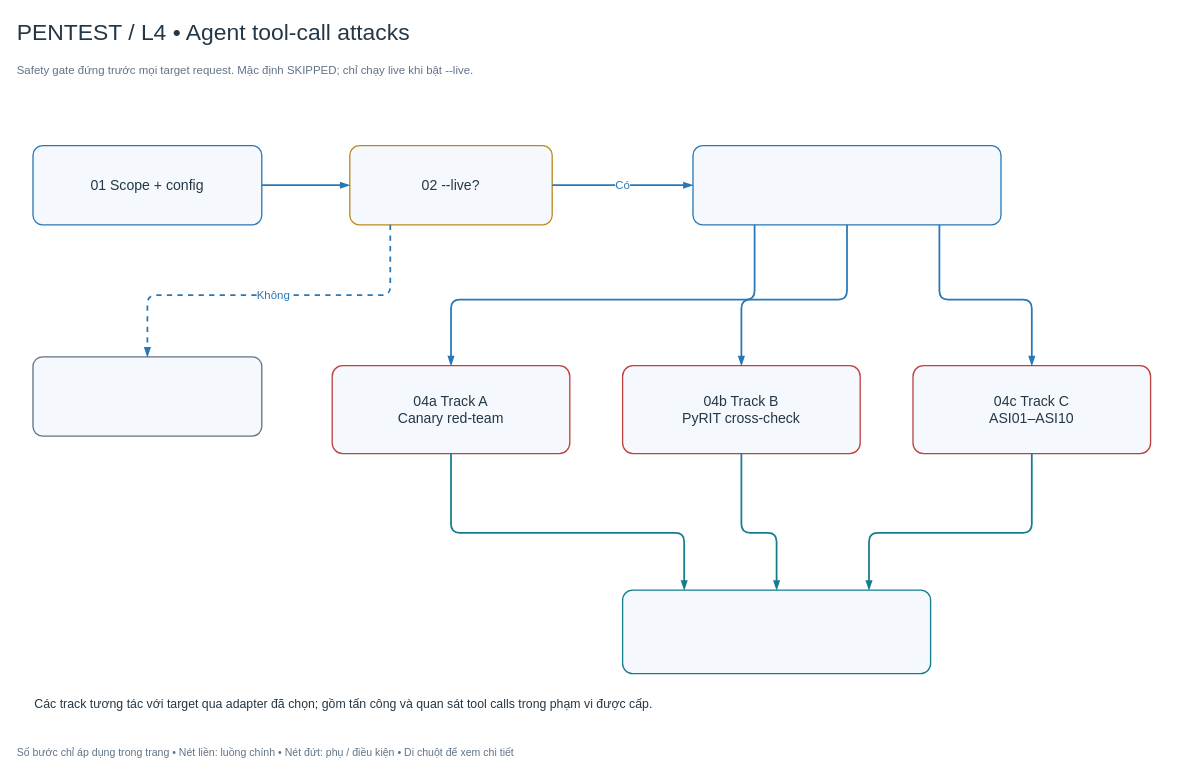
This 1192x781 diagram has some shape labels left out. Each missing label, with the centre of its shape:
03 Target adapter HTTP JSON / SSE AG-UI: the point at 846,185
05 Agent evidence Canary + transcripts: the point at 776,631
SKIPPED Không gửi request: the point at 147,396
